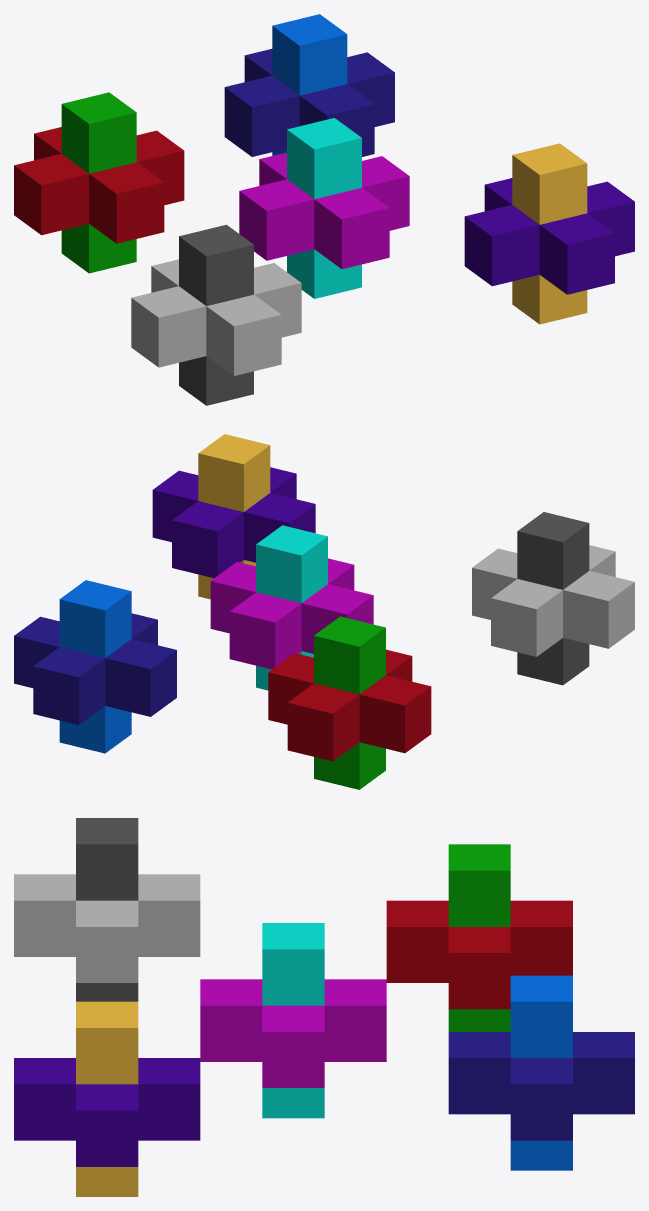
The picture shows the model from 3 angles, top to bottom: view 1: azimuth 30°, elevation 25°; view 2: azimuth 150°, elevation 25°; view 3: azimuth 270°, elevation 25°; orthographic projection. The views are drawn at different scales.
Parts seen in each view (by area): view 1: Matrix_8; view 2: Matrix_8; view 3: Matrix_8.
Part boxes in pixels (x1,y1,x2,y2): Matrix_8: (14, 14, 634, 405); Matrix_8: (14, 434, 634, 789); Matrix_8: (14, 818, 634, 1196).
Size of the model in its own units: 10 by 3 by 10.
Materials: 1 (1 with a texture image).
